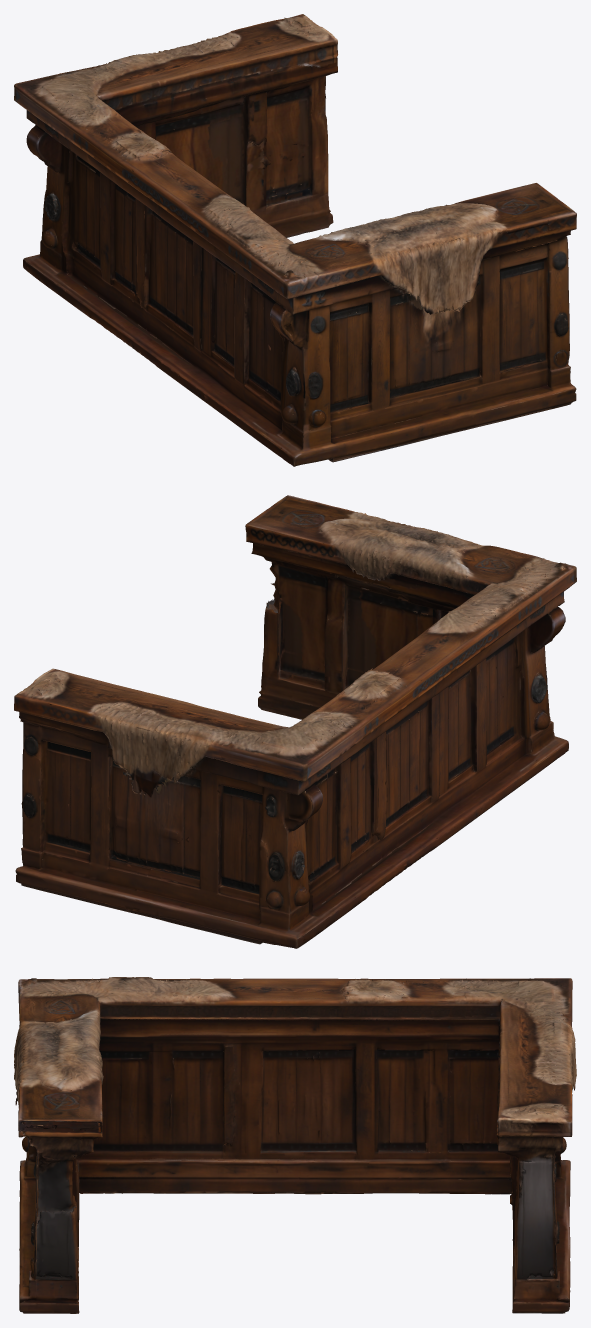
File: A_large_Viking_style__0721231128_texture.fbx
3 views of the same model, one above another, from view 1: azimuth 30°, elevation 25°; view 2: azimuth 150°, elevation 25°; view 3: azimuth 270°, elevation 25° (orthographic).
Visible parts, largest first — view 1: Mesh_0; view 2: Mesh_0; view 3: Mesh_0.
Boxes of the visible parts, x1=… form: Mesh_0: x1=14, y1=14, x2=576, y2=466; Mesh_0: x1=14, y1=495, x2=576, y2=948; Mesh_0: x1=14, y1=977, x2=576, y2=1313.
Size of the model in its own units: 120 by 79.03 by 198.
1 material, 1 textured.
